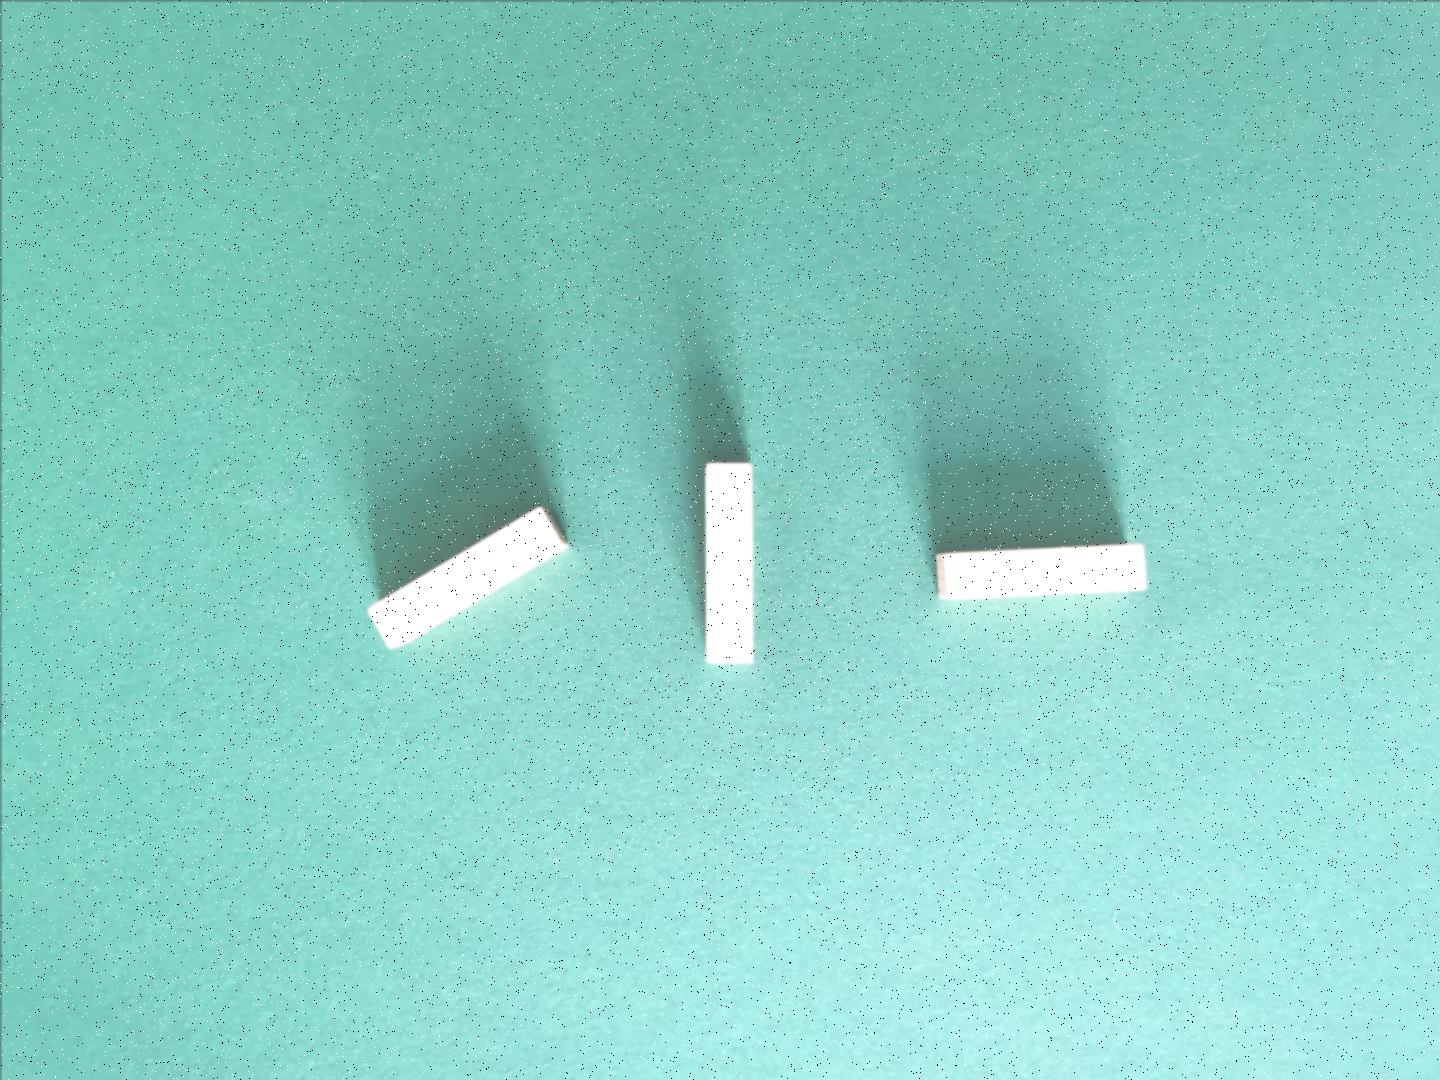jenga: (369, 506, 566, 647), (937, 542, 1145, 599), (703, 462, 754, 664)
